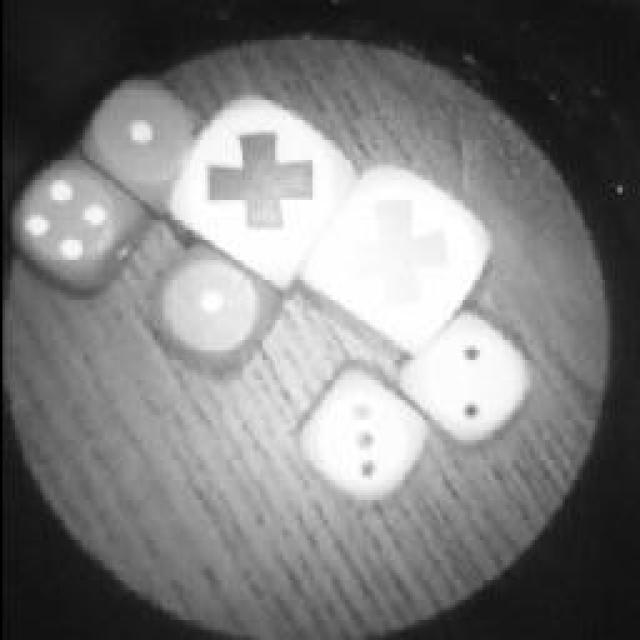dice_1: (133, 242, 285, 378), (75, 68, 210, 202)
dice_2: (390, 312, 540, 450)
dice_3: (285, 352, 433, 508)
dice_4: (2, 160, 140, 292)
